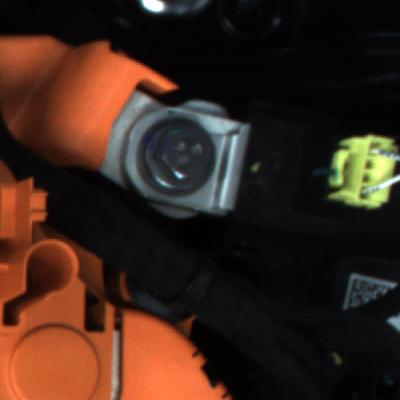nut_b: (138, 112, 233, 204)
